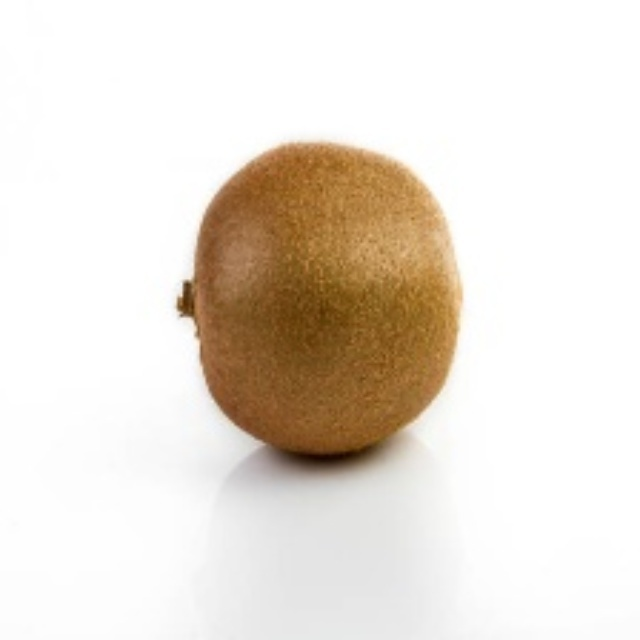kiwi: (176, 142, 481, 467)
